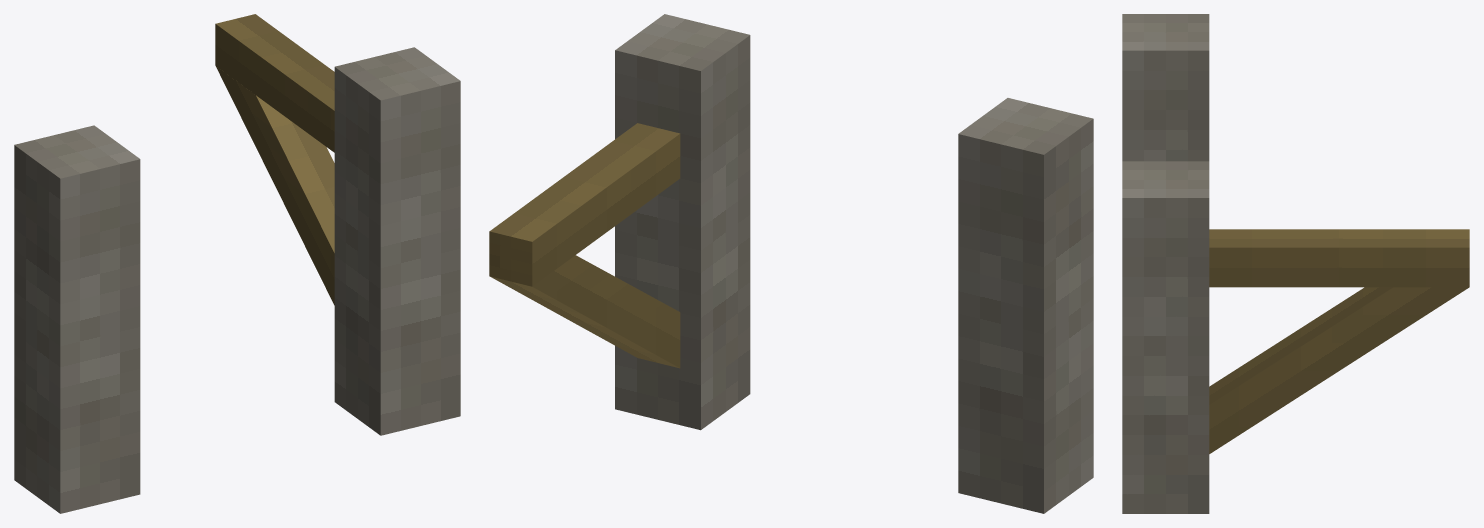
File: doors_fence_gate_open.obj
3 renders of one model, left to right at view 1: azimuth 30°, elevation 25°; view 2: azimuth 150°, elevation 25°; view 3: azimuth 270°, elevation 25°, orthographic. The views are drawn at different scales.
Visible parts, largest first — view 1: Cube_Cube.001; view 2: Cube_Cube.001; view 3: Cube_Cube.001.
Part boxes in pixels (x1,y1,x2,y2): Cube_Cube.001: (14,14,460,513); Cube_Cube.001: (489,14,1093,513); Cube_Cube.001: (1122,14,1469,513).
Bounding box in the file's own units: 1.25 × 1 × 0.9974.
